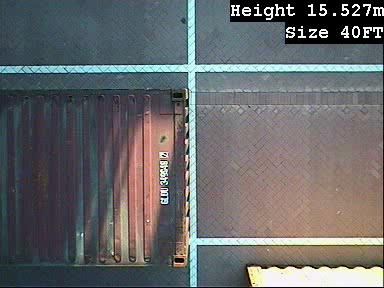groundmarker_2: (45, 95, 139, 147)
